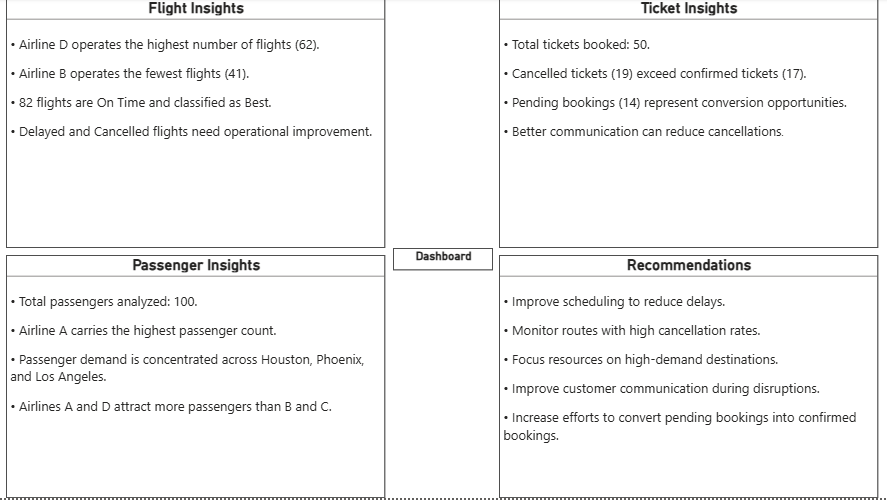

Layout of this report page (visuals, bound fields, positions):
{"tool":"powerbi","page":{"name":"Business Insights & Recommendations","canvas":[1280,720],"ordinal":3},"visuals":[{"type":"textbox","title":"Flight Insights","box":[10.1,0,545.8,360],"z":0},{"type":"textbox","title":"Passenger Insights","box":[10,370,546,350],"z":1000},{"type":"textbox","title":"Ticket Insights","box":[720,0,545.8,360],"z":2000},{"type":"textbox","title":"Recommendations","box":[720,370.1,545.8,349.9],"z":3000},{"type":"actionButton","title":"Dashboard","box":[567.4,360,144,31.7],"z":4000}]}

Visuals, with their boxes in screenshot pixels (x1, y1, x2, y2), scaled from the page's 1280x720 canvas onto the 887x501 screenshot:
"Flight Insights" textbox: [x1=7, y1=0, x2=385, y2=250]
"Passenger Insights" textbox: [x1=7, y1=257, x2=385, y2=500]
"Ticket Insights" textbox: [x1=499, y1=0, x2=877, y2=250]
"Recommendations" textbox: [x1=499, y1=258, x2=877, y2=500]
"Dashboard" actionButton: [x1=393, y1=250, x2=493, y2=273]
